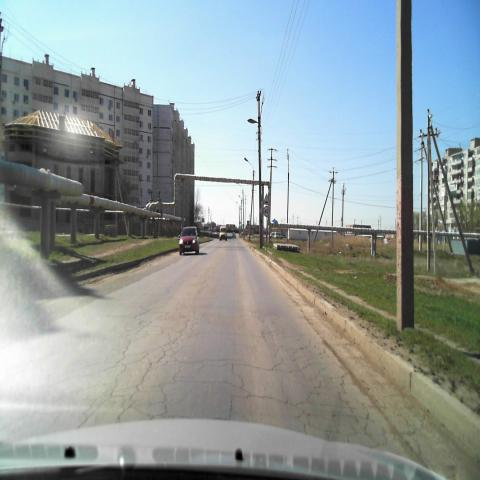1_17: (262, 194, 270, 204)
3_24: (263, 206, 270, 217)
